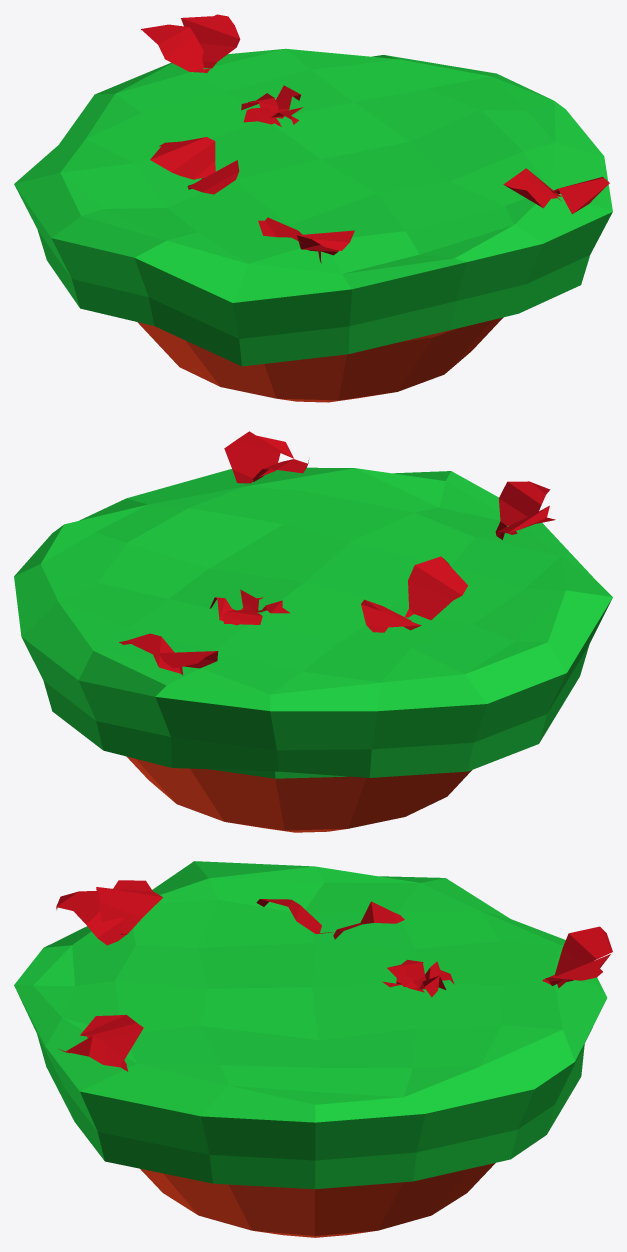
File: Plat.obj
3 renders of one model, top to bottom at view 1: azimuth 30°, elevation 25°; view 2: azimuth 150°, elevation 25°; view 3: azimuth 270°, elevation 25°, orthographic. The views are drawn at different scales.
Parts seen in each view (by area): view 1: Esfera_UV.002, Esfera_UV.004; view 2: Esfera_UV.002, Esfera_UV.004; view 3: Esfera_UV.002, Esfera_UV.004.
Boxes of the visible parts, left/top/right/bottom form: Esfera_UV.002: left=14, top=48, right=612, bottom=402; Esfera_UV.004: left=141, top=14, right=609, bottom=263; Esfera_UV.002: left=14, top=467, right=612, bottom=832; Esfera_UV.004: left=119, top=431, right=555, bottom=675; Esfera_UV.002: left=14, top=861, right=607, bottom=1237; Esfera_UV.004: left=56, top=880, right=612, bottom=1071.
Size of the model in its own units: 2.15 by 1.06 by 2.12.
